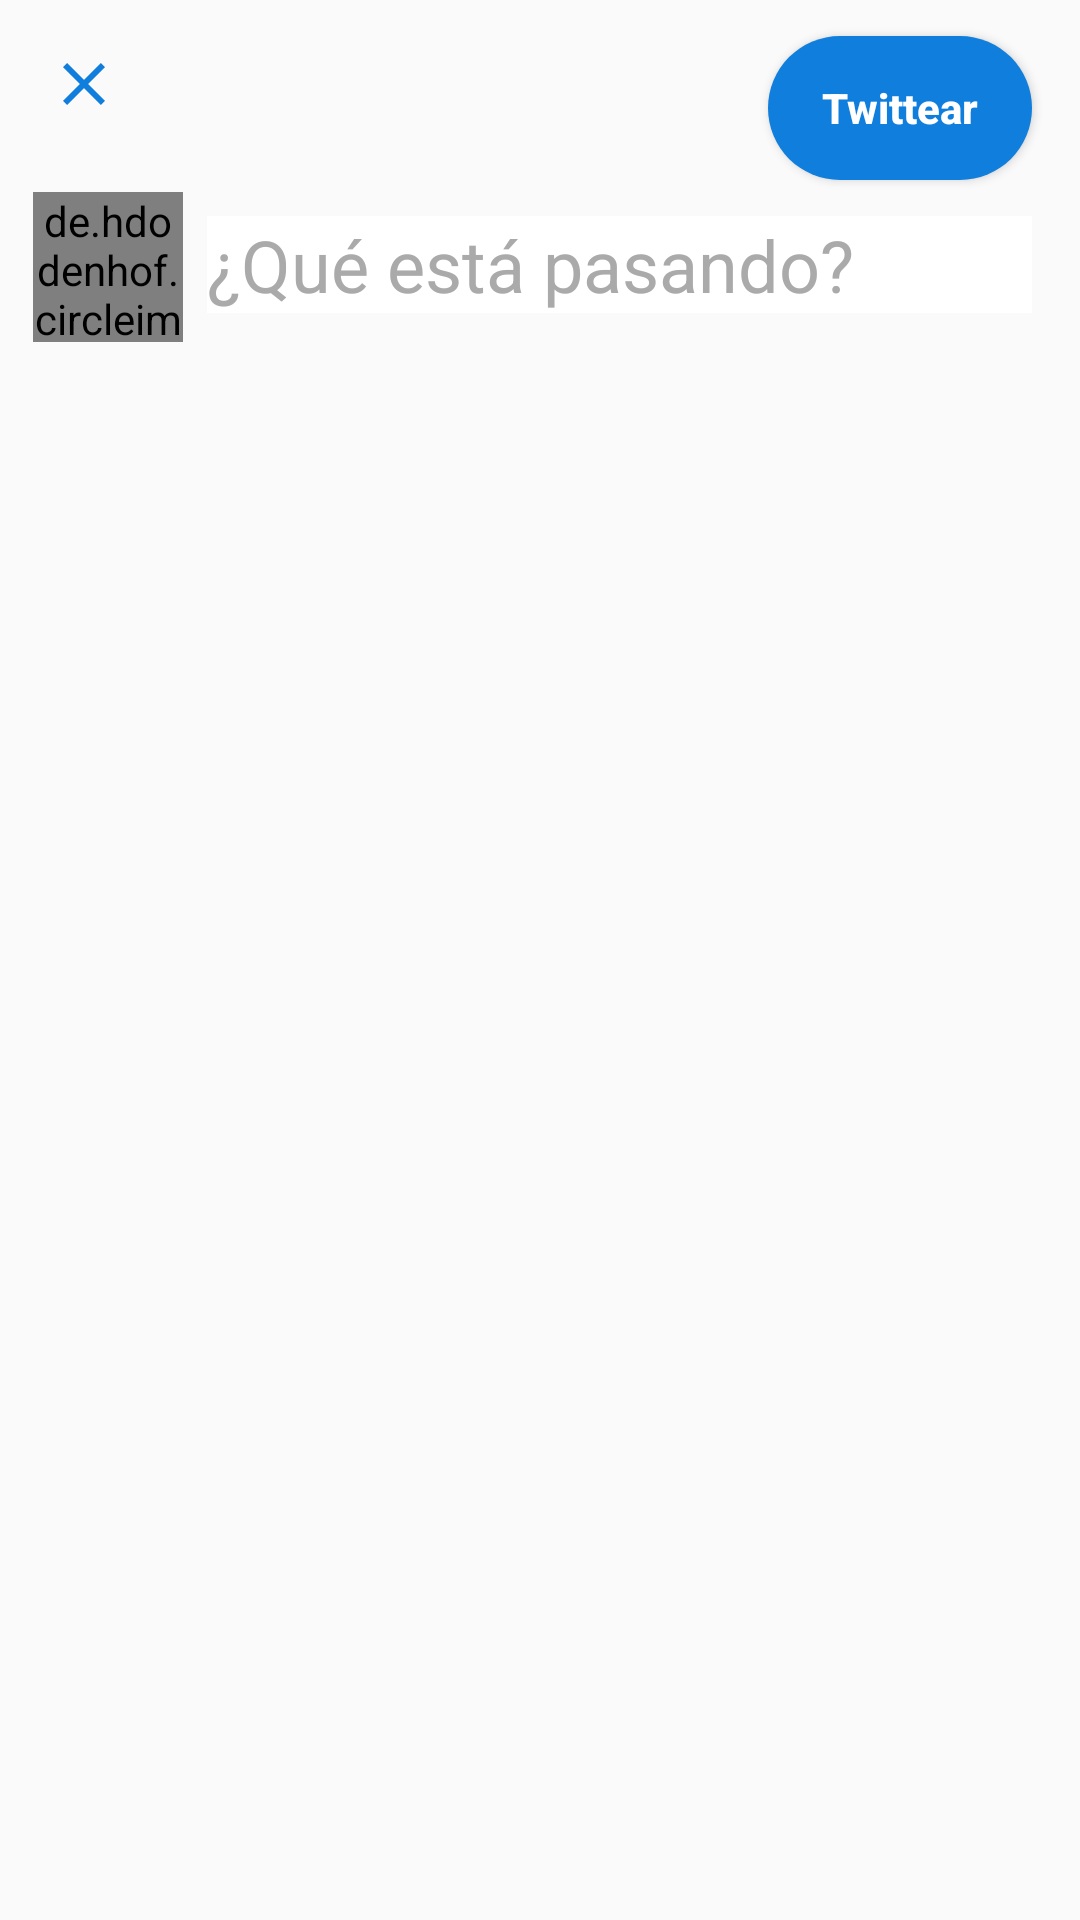

Locate icon controls on the screen. Image size 1080px×1920px, boxes as (x1, y1, x2, y2).
close: (63, 63, 105, 105)
